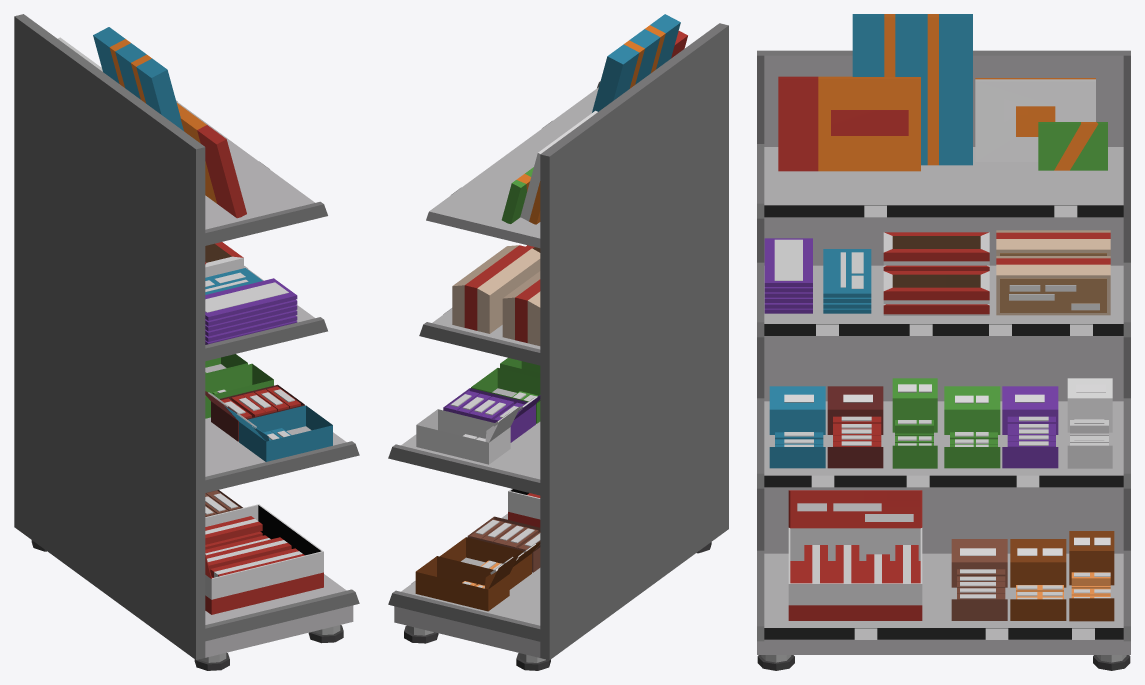
File: SM_shopShelve_03.glb
3 views of the same model, side by side, from view 1: azimuth 30°, elevation 25°; view 2: azimuth 150°, elevation 25°; view 3: azimuth 270°, elevation 25° (orthographic). The views are drawn at different scales.
Parts seen in each view (by area): view 1: SM_shopShelve_03; view 2: SM_shopShelve_03; view 3: SM_shopShelve_03.
Part boxes in pixels (box(x1,y1,x2,y2)): SM_shopShelve_03: box(14, 14, 359, 670); SM_shopShelve_03: box(388, 14, 728, 670); SM_shopShelve_03: box(757, 14, 1130, 670).
Bounding box in the file's own units: 0.52 × 1.73 × 1.
Materials: 1 (1 with a texture image).
